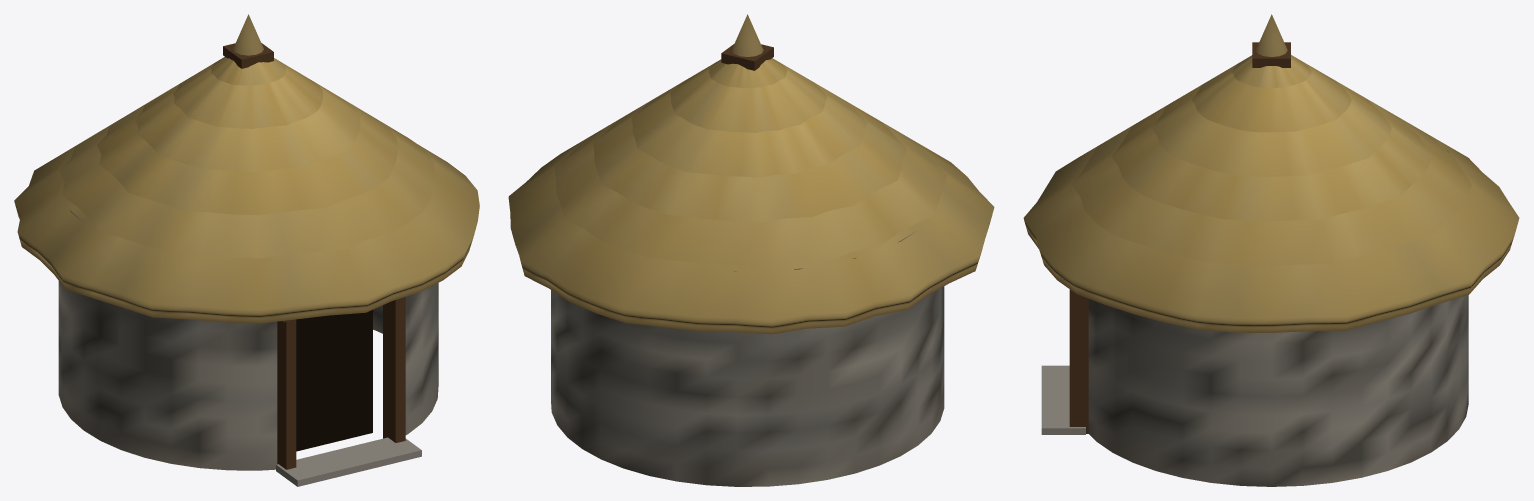
Rendered from roundhouse-stone-3.glb.
The picture shows the model from 3 angles, left to right: view 1: azimuth 30°, elevation 25°; view 2: azimuth 150°, elevation 25°; view 3: azimuth 270°, elevation 25°; orthographic projection. The views are drawn at different scales.
Parts seen in each view (by area): view 1: roundhouse-stone-3; view 2: roundhouse-stone-3; view 3: roundhouse-stone-3.
Boxes of the visible parts, bbox=[...] form: roundhouse-stone-3: bbox=[14, 14, 479, 486]; roundhouse-stone-3: bbox=[508, 14, 994, 486]; roundhouse-stone-3: bbox=[1023, 14, 1519, 486].
Bounding box in the file's own units: 3.26 × 2.89 × 3.34.
